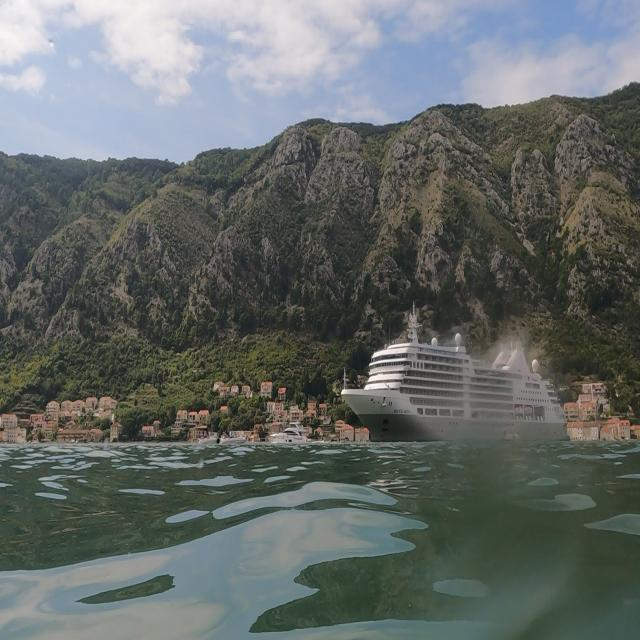boat: (338, 297, 570, 446), (268, 414, 316, 454)
